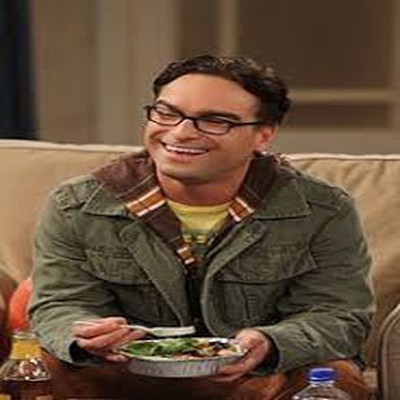eywear: (136, 88, 273, 160)
